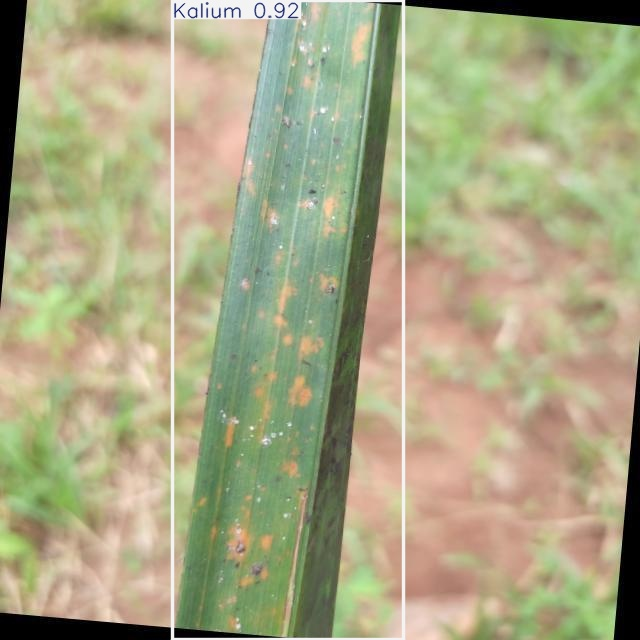Kalium: (173, 1, 403, 639)
